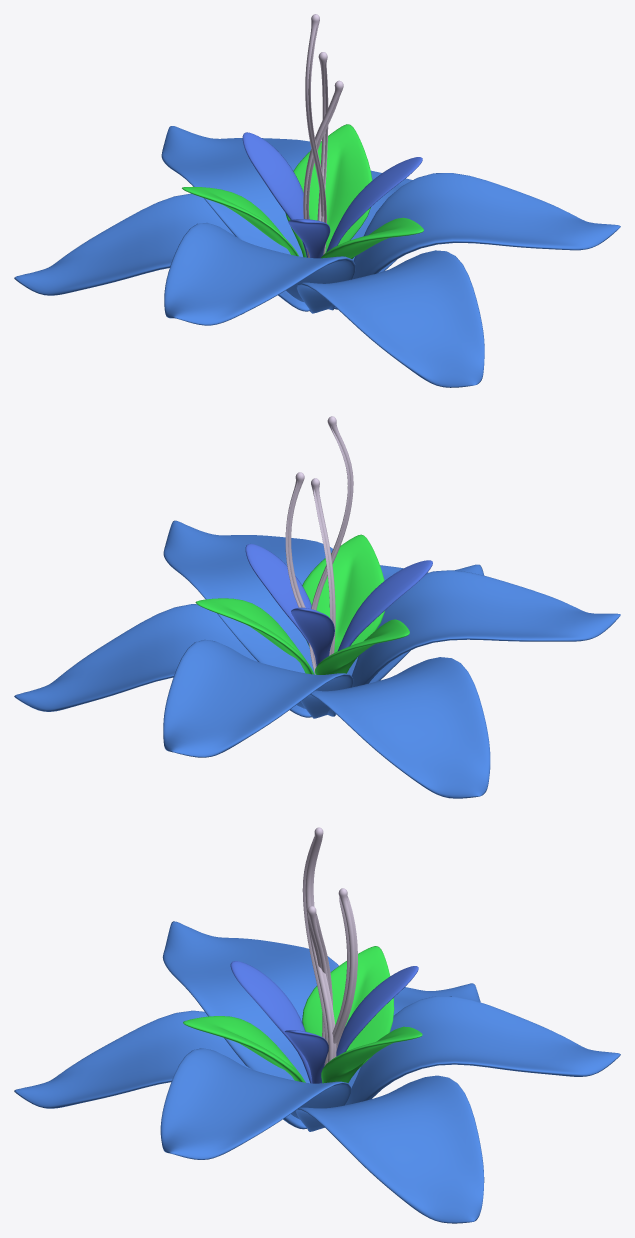
The model's file is Flower.fbx.
3 renders of one model, top to bottom at view 1: azimuth 30°, elevation 25°; view 2: azimuth 150°, elevation 25°; view 3: azimuth 270°, elevation 25°, orthographic.
Visible parts, largest first — view 1: Plane; view 2: Plane; view 3: Plane.
Part boxes in pixels (x1,y1,x2,y2): Plane: [14, 14, 620, 387]; Plane: [14, 416, 620, 798]; Plane: [14, 827, 620, 1223].
Size of the model in its own units: 618 by 371 by 704.
